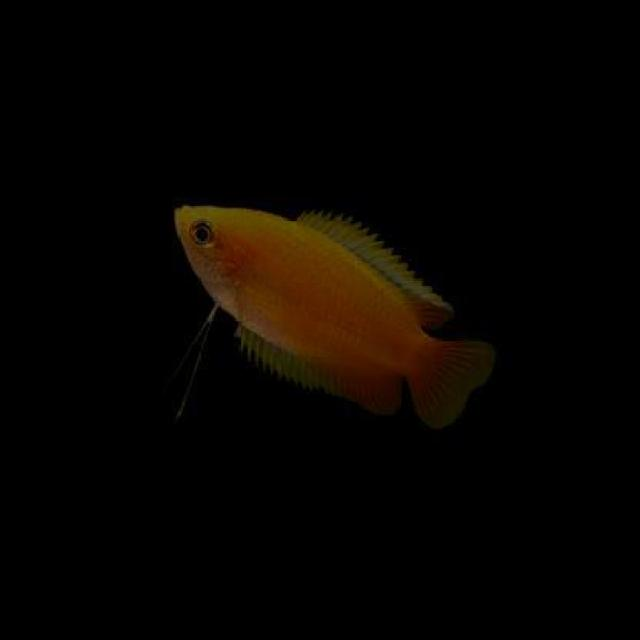Gourami: (170, 187, 498, 431)
